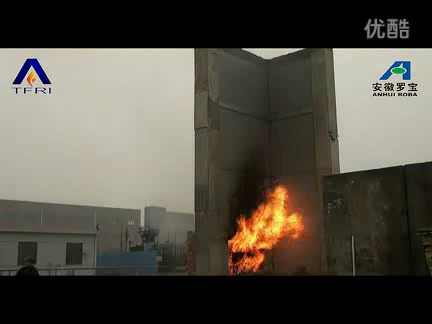fire: (220, 183, 309, 272)
